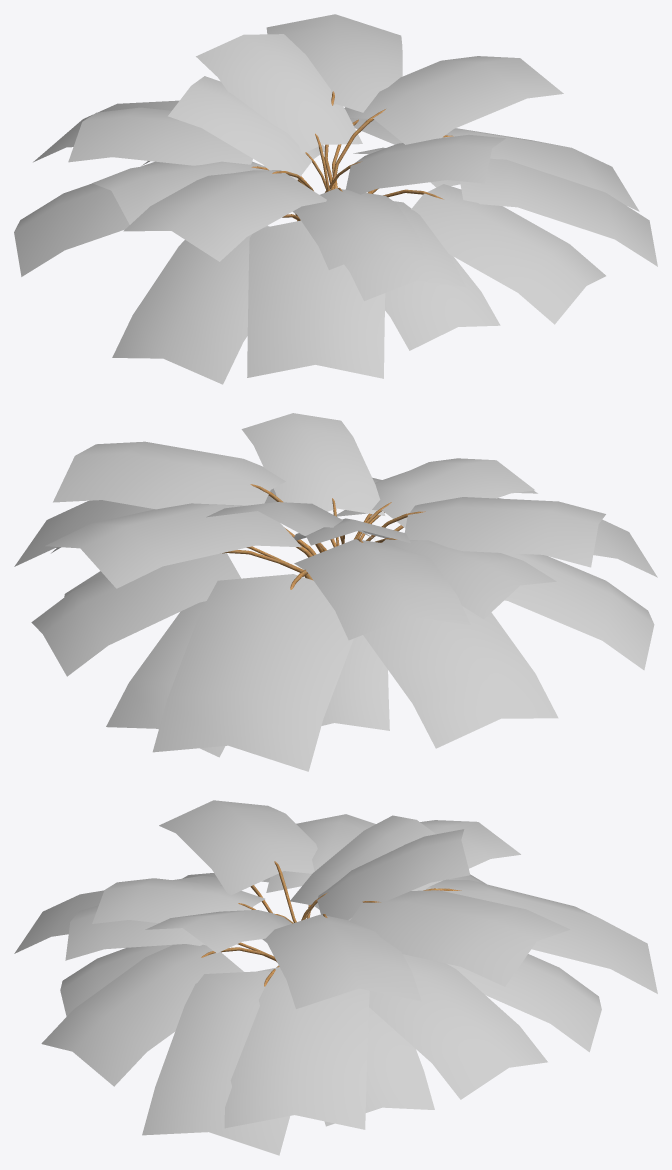
Rendered from Amazonie_Fougere_5.fbx.
The picture shows the model from 3 angles, top to bottom: view 1: azimuth 30°, elevation 25°; view 2: azimuth 150°, elevation 25°; view 3: azimuth 270°, elevation 25°; orthographic projection. The views are drawn at different scales.
Visible parts, largest first — view 1: Plane.040, Plane.027; view 2: Plane.040, Plane.027; view 3: Plane.040, Plane.027.
Part boxes in pixels (x1,y1,x2,y2): Plane.040: (14, 14, 657, 384); Plane.027: (251, 91, 453, 221); Plane.040: (14, 413, 657, 771); Plane.027: (222, 484, 425, 589); Plane.040: (14, 800, 657, 1155); Plane.027: (201, 861, 461, 986).
Bounding box in the file's own units: 800 × 256 × 832.
